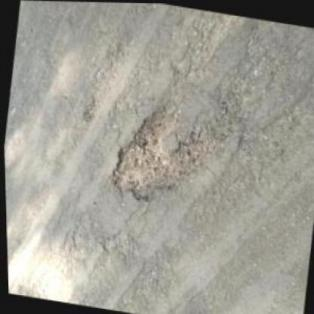Hueco: (103, 94, 225, 215)
